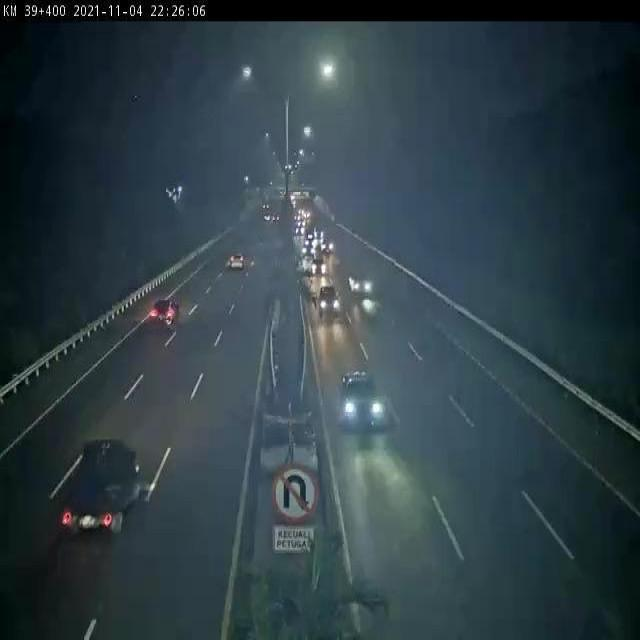car: (333, 361, 397, 448), (142, 292, 180, 331), (346, 268, 385, 296), (313, 291, 344, 319), (224, 252, 254, 275), (309, 259, 333, 277)
truck: (52, 425, 152, 555)
